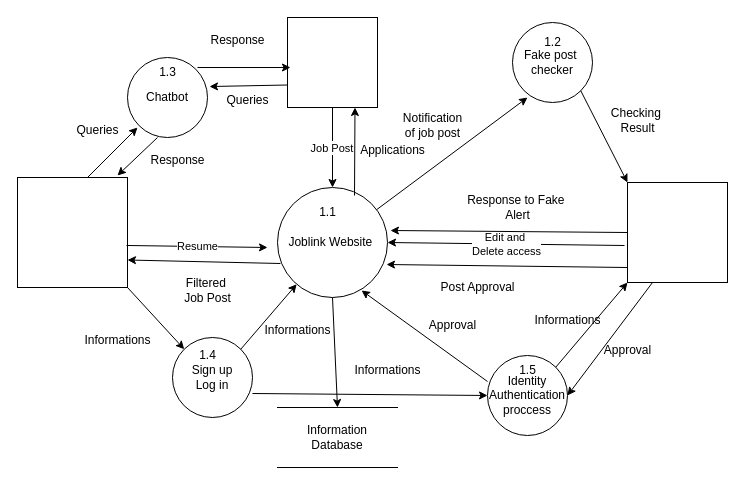
The diagram is 745 pixels wide and 485 high, and some of its shapes have lost their labels. Each missing label, with the centre of its shape:
Admin: point (677, 232)
Employeers: point (332, 62)
Job_Seeker: point (72, 232)
